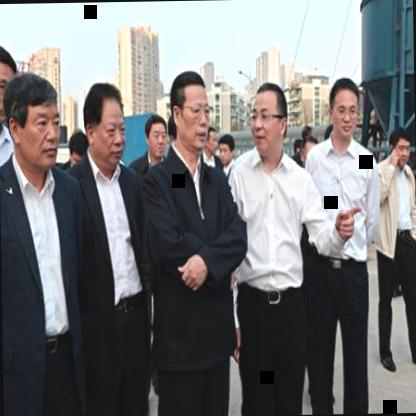head: (2, 60, 63, 172), (81, 76, 127, 168), (166, 67, 214, 152), (247, 78, 294, 157), (326, 70, 362, 148), (0, 33, 18, 144), (143, 111, 171, 166), (63, 126, 90, 178), (388, 126, 412, 167), (218, 130, 238, 168), (298, 132, 318, 170)
